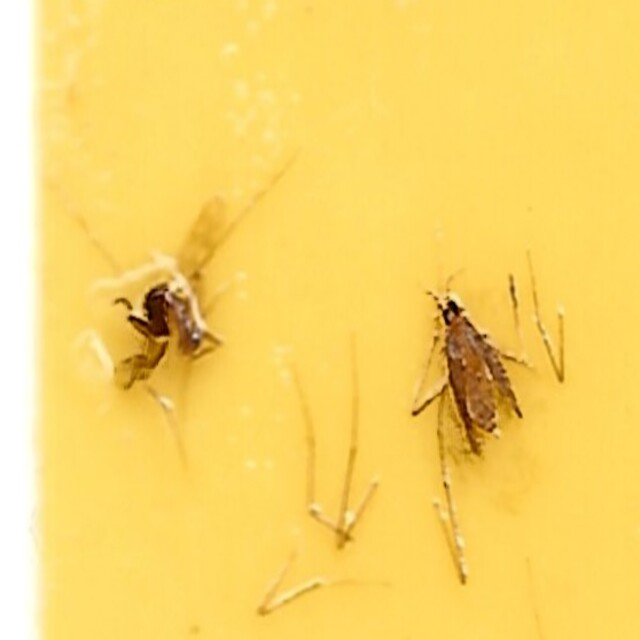Nematocera: (115, 182, 239, 400)
Trichoptera: (429, 273, 525, 458)
